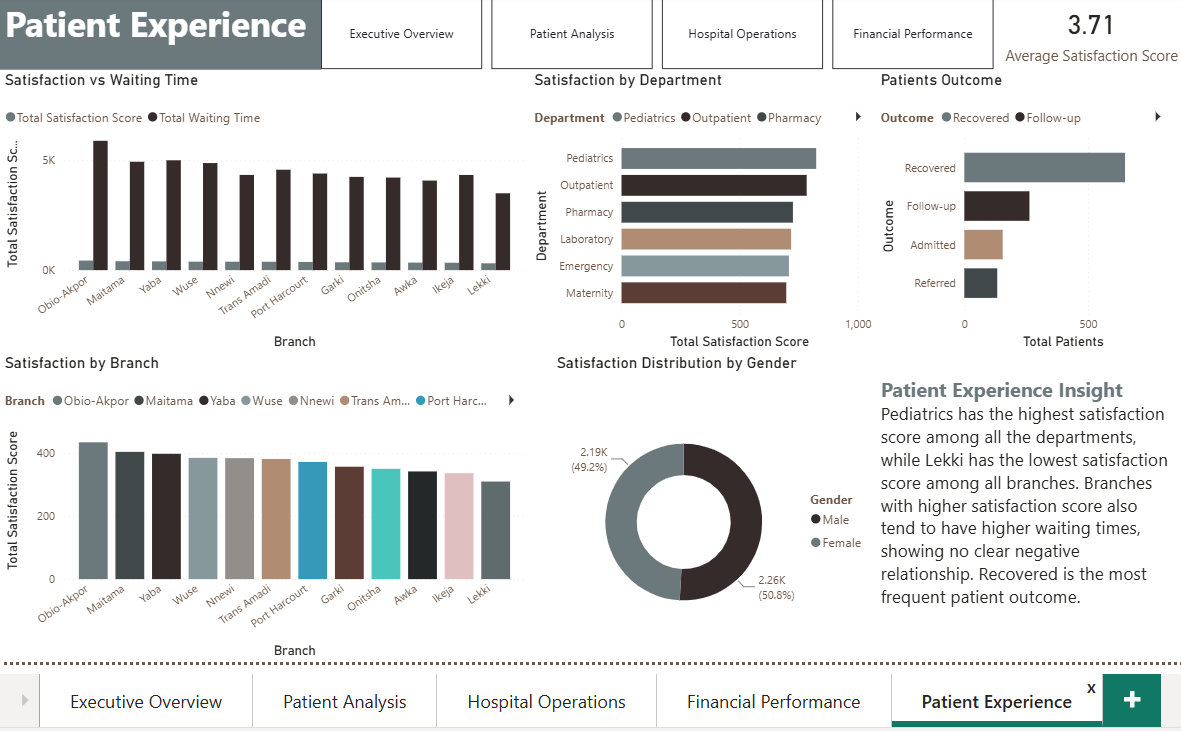

Layout of this report page (visuals, bound fields, positions):
{"tool":"powerbi","page":{"name":"Patient Experience","canvas":[1280,720],"ordinal":4},"visuals":[{"type":"barChart","title":"Satisfaction by Department","fields":{"Category":["Patient_Visits.Department"],"Y":["Date_Table.Total Satisfaction Score"],"Series":["Patient_Visits.Department"]},"box":[571.6,81,374,306],"z":0},{"type":"columnChart","title":"Satisfaction by Branch","fields":{"Category":["Patient_Visits.Branch"],"Y":["Date_Table.Total Satisfaction Score"],"Series":["Patient_Visits.Branch"]},"box":[0,387,571.6,333.6],"z":1000},{"type":"lineClusteredColumnComboChart","title":"Satisfaction vs Waiting Time","fields":{"Category":["Patient_Visits.Branch"],"Y":["Date_Table.Total Satisfaction Score","Date_Table.Total Waiting Time"]},"box":[0,81,571.6,306],"z":2000},{"type":"barChart","title":"Patients Outcome","fields":{"Category":["Patient_Visits.Outcome"],"Y":["Date_Table.Total Patients"],"Series":["Patient_Visits.Outcome"]},"box":[945.6,81,323.8,306],"z":3000},{"type":"donutChart","title":"Satisfaction Distribution by Gender","fields":{"Category":["Patient_Visits.Gender"],"Y":["Date_Table.Total Satisfaction Score"]},"box":[595.9,387,349.8,333.6],"z":4000},{"type":"textbox","box":[0,0,346.5,81],"z":5000},{"type":"textbox","box":[946,387,324,333],"z":6000},{"type":"card","fields":{"Values":["Date_Table.Average Satisfaction Score"]},"box":[1075.2,0,205.6,81],"z":7000},{"type":"pageNavigator","box":[346.5,0,728.7,81],"z":7001}]}

Visuals, with their boxes on the page's 1280x720 design canvas (x1, y1, x2, y2). These are canvas units, not pixel positions in the 1181x731 screenshot, which may show the page scaled, cropped or inside an application window:
"Satisfaction by Department" barChart: rect(572, 81, 946, 387)
"Satisfaction by Branch" columnChart: rect(0, 387, 572, 721)
"Satisfaction vs Waiting Time" lineClusteredColumnComboChart: rect(0, 81, 572, 387)
"Patients Outcome" barChart: rect(946, 81, 1269, 387)
"Satisfaction Distribution by Gender" donutChart: rect(596, 387, 946, 721)
textbox: rect(0, 0, 346, 81)
textbox: rect(946, 387, 1270, 720)
card - Date_Table.Average Satisfaction Score: rect(1075, 0, 1281, 81)
pageNavigator: rect(346, 0, 1075, 81)
